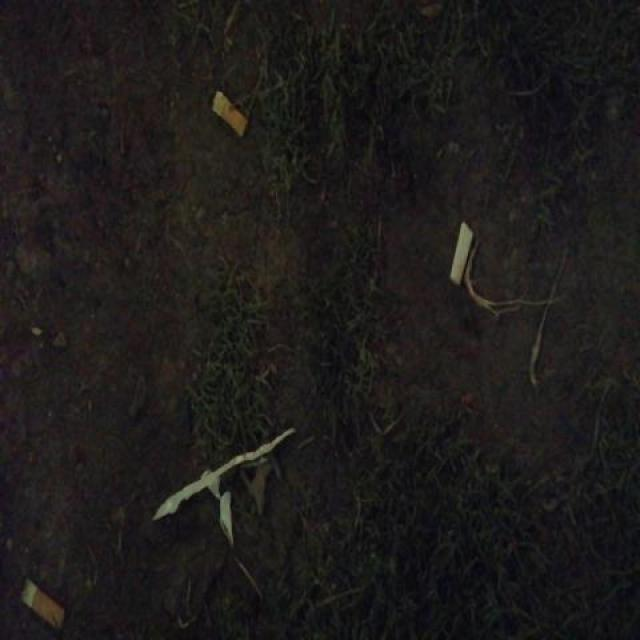non-organic waste: (14, 569, 66, 635), (210, 88, 250, 144), (445, 218, 474, 286)
